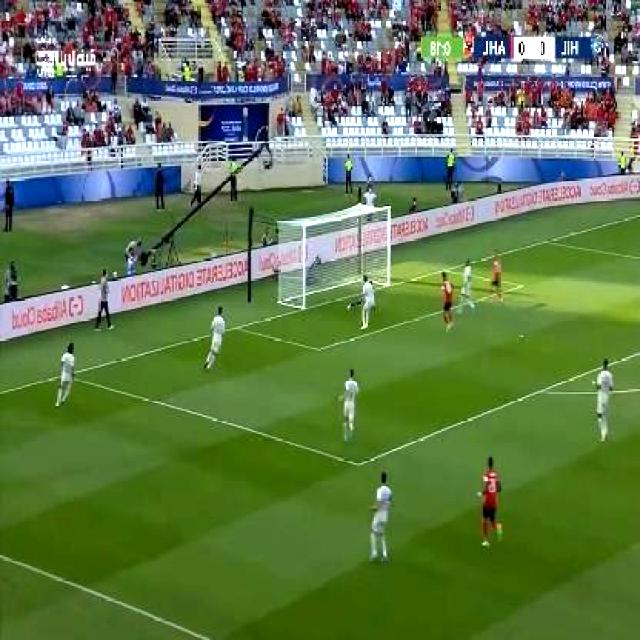bigarea_bottom_inner: (348, 449, 370, 477)
bigarea_top_outter: (538, 232, 557, 250)
bottom_arc_area_intersection: (531, 377, 555, 405)
smallarea_bottom_inner: (309, 335, 328, 360)
smallarea_bottom_outter: (228, 314, 248, 338)
smallarea_top_inner: (508, 274, 534, 297)
smallarea_top_outter: (438, 260, 456, 278)
